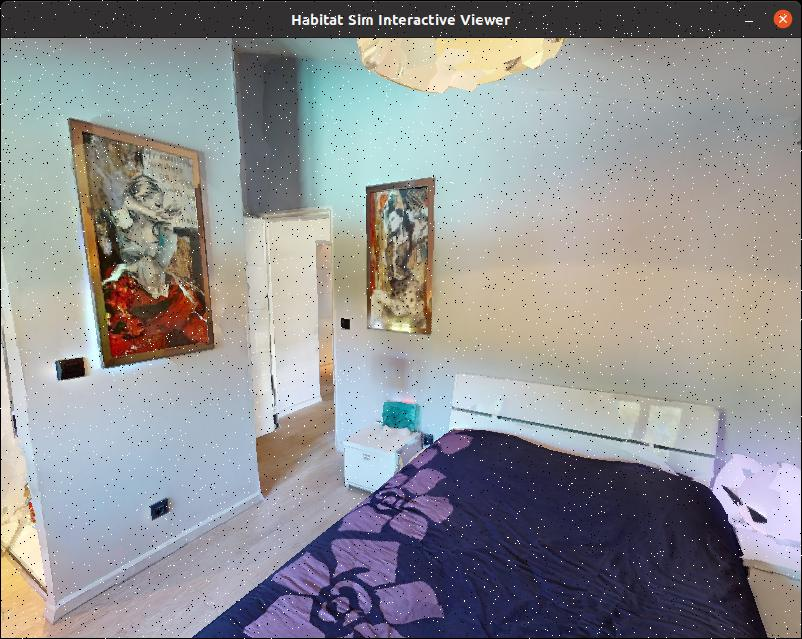bed: (171, 375, 769, 639)
door-frame: (213, 207, 368, 455)
